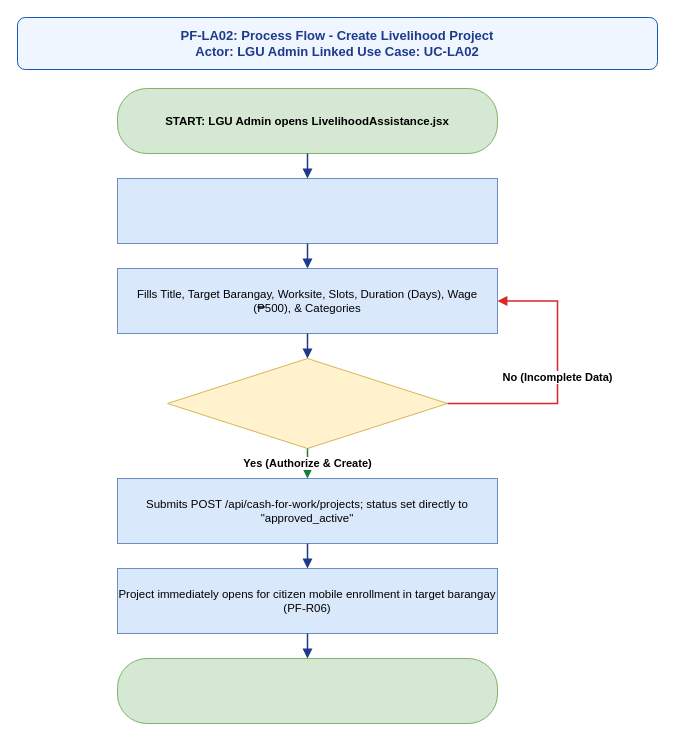
Image size: 675x741. Some labels were removed from this diagram. The box of each missing label's shape, as (x1, y1, x2, y2) in pixels:
All fields valid & budget authorized?: (166, 358, 448, 448)
Clicks "+ Create Livelihood Project" button to open modal: (116, 178, 498, 244)
END: Cash-for-Work recovery project deployed and active: (116, 658, 498, 724)
